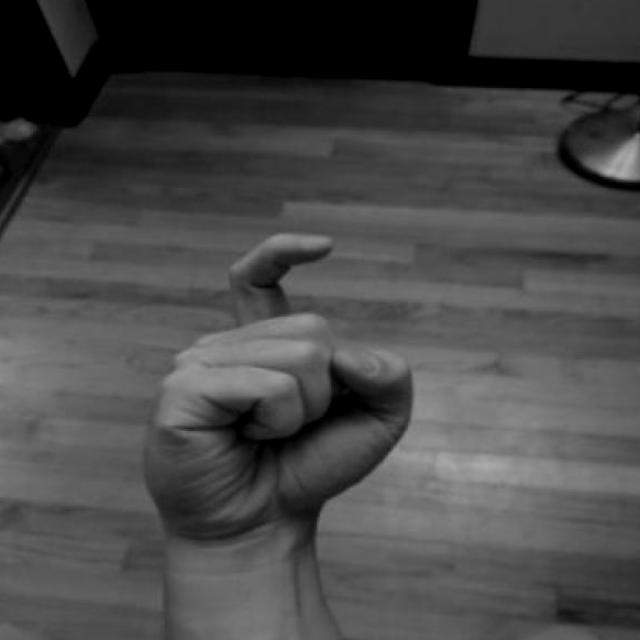X: (131, 213, 432, 579)
